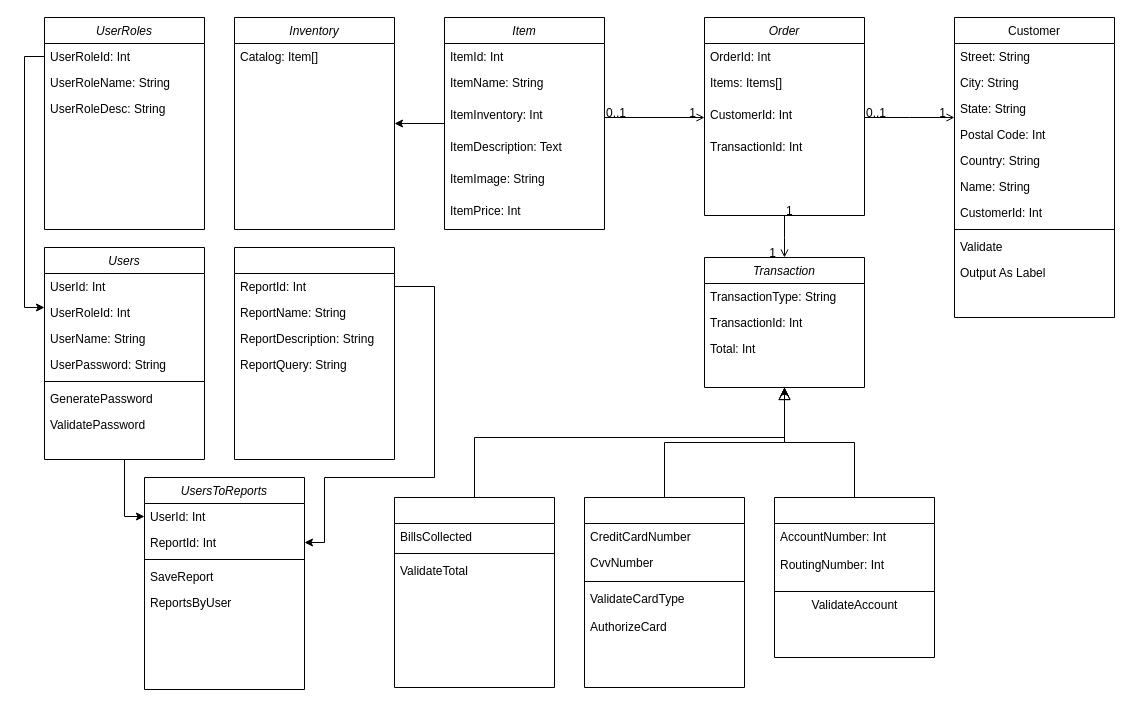
The diagram is 1132 pixels wide and 707 high, and some of its shapes have lost their labels. The shapes that lost their labels are listed below. From the top down, each one's box as (x1, y1, x2, y2) in pixels, then its label:
(234, 246, 394, 460): Reports
(394, 496, 554, 688): CashTransaction
(584, 496, 744, 688): CreditTransaction
(774, 496, 934, 658): CheckTransaction
